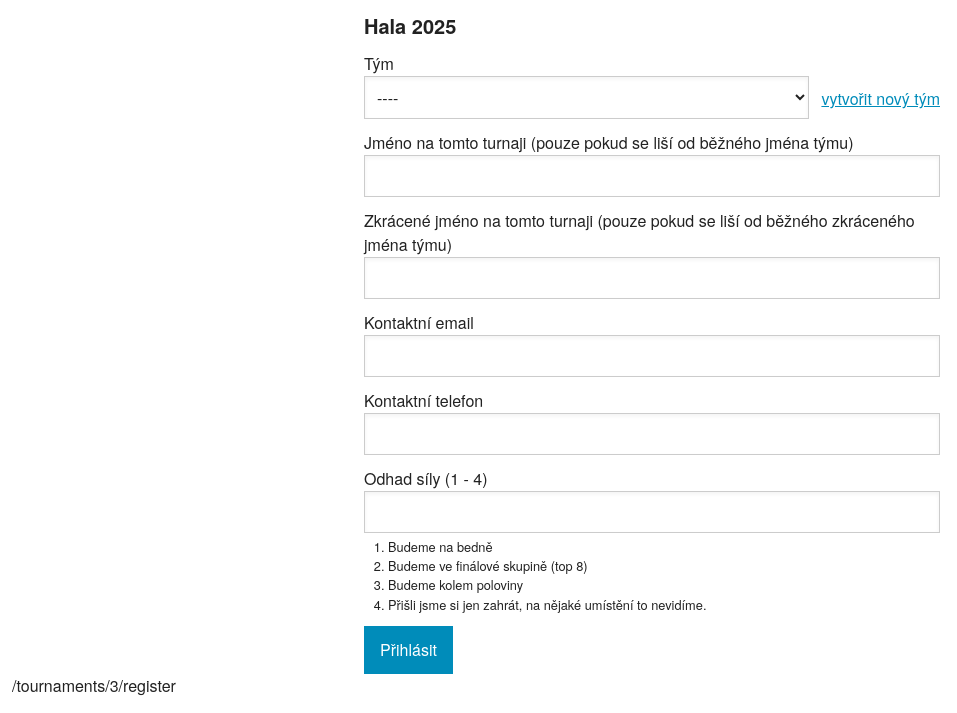
Test: register existing team and go to roster
Step 1. Select "Ufo" in the dropdown labelled "Tým" → (587, 98), box [364,76,809,119]
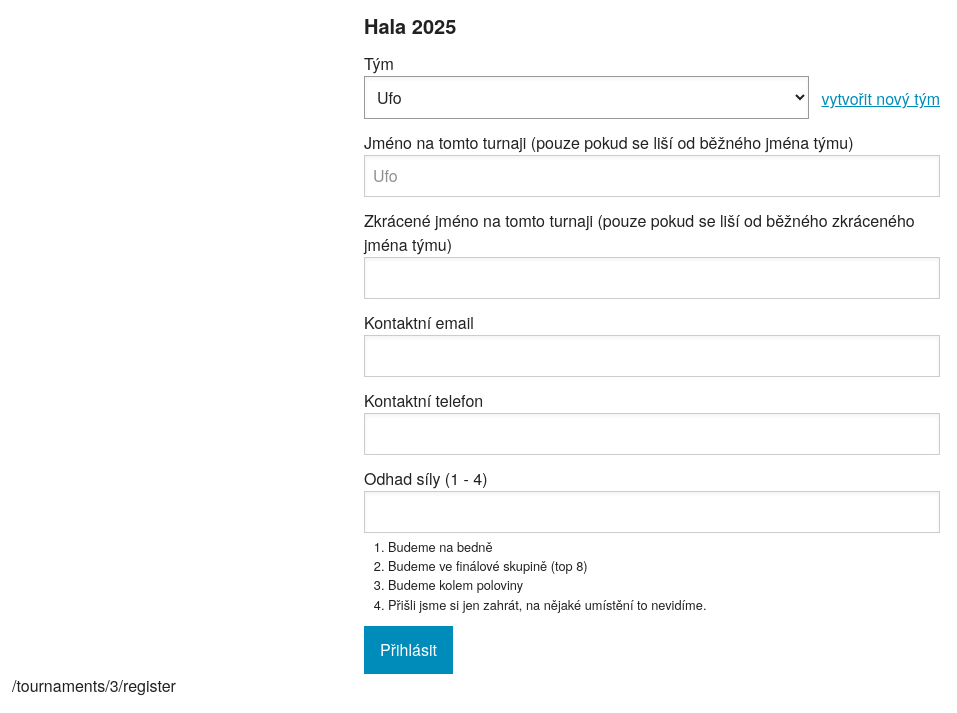
Step 2. Type "a@b.cz" into the field labelled "Kontaktní email" → (652, 356), box [364,335,940,377]
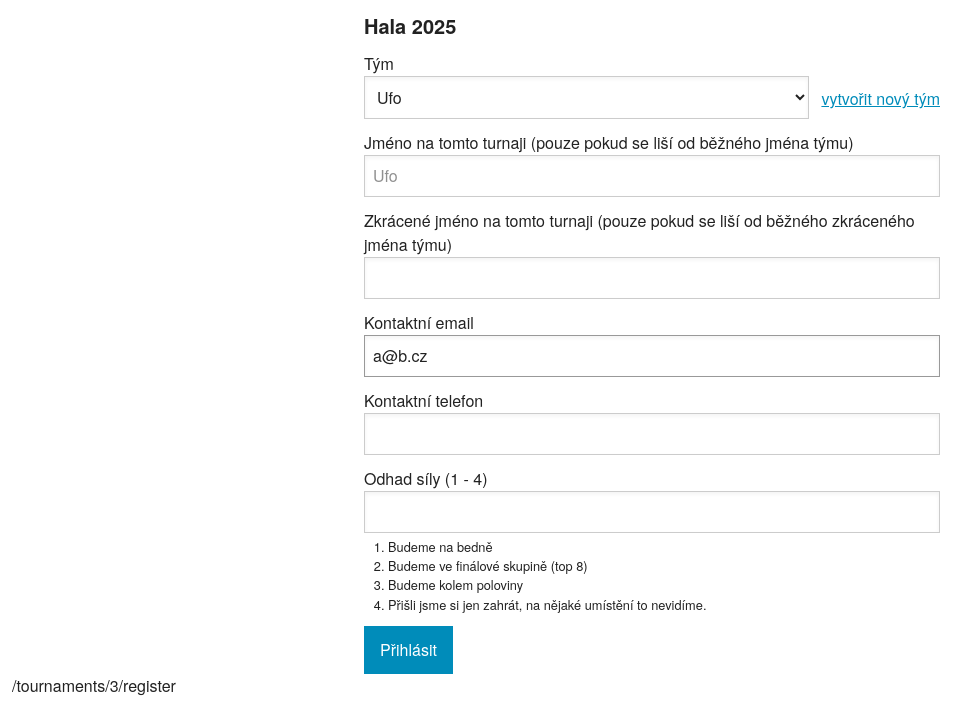
Step 3. Type "123" into the field labelled "Kontaktní telefon" → (652, 434), box [364,413,940,455]
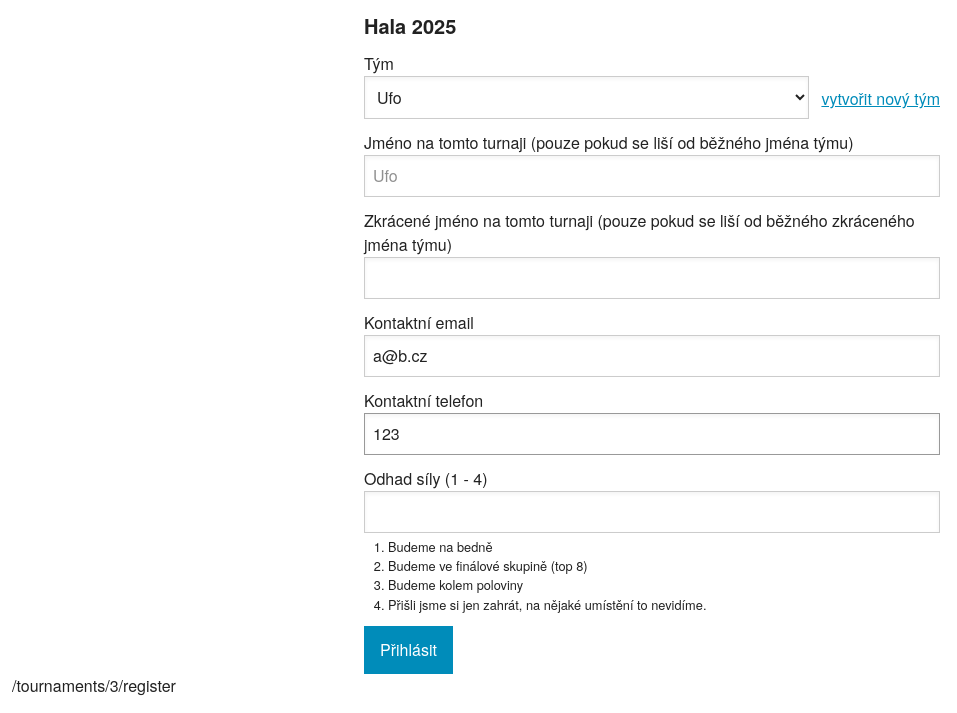
Step 4. Type "2" into the number field labelled "Odhad síly (1 - 4)" → (652, 512), box [364,491,940,533]
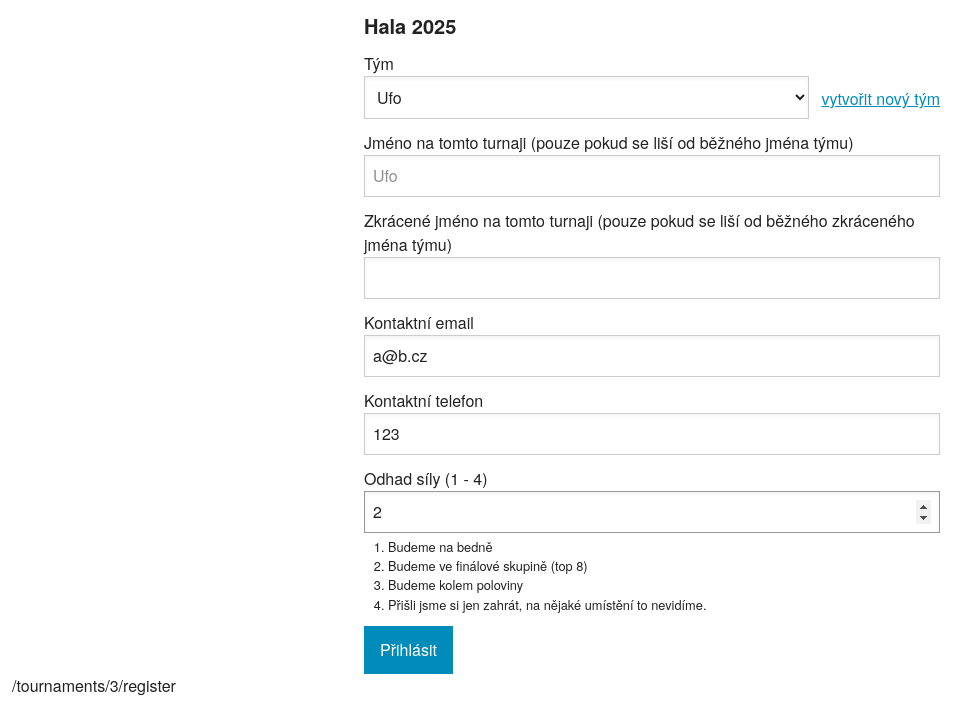
Step 5. Click the button "Přihlásit" → click(408, 650), box [364,626,453,674]
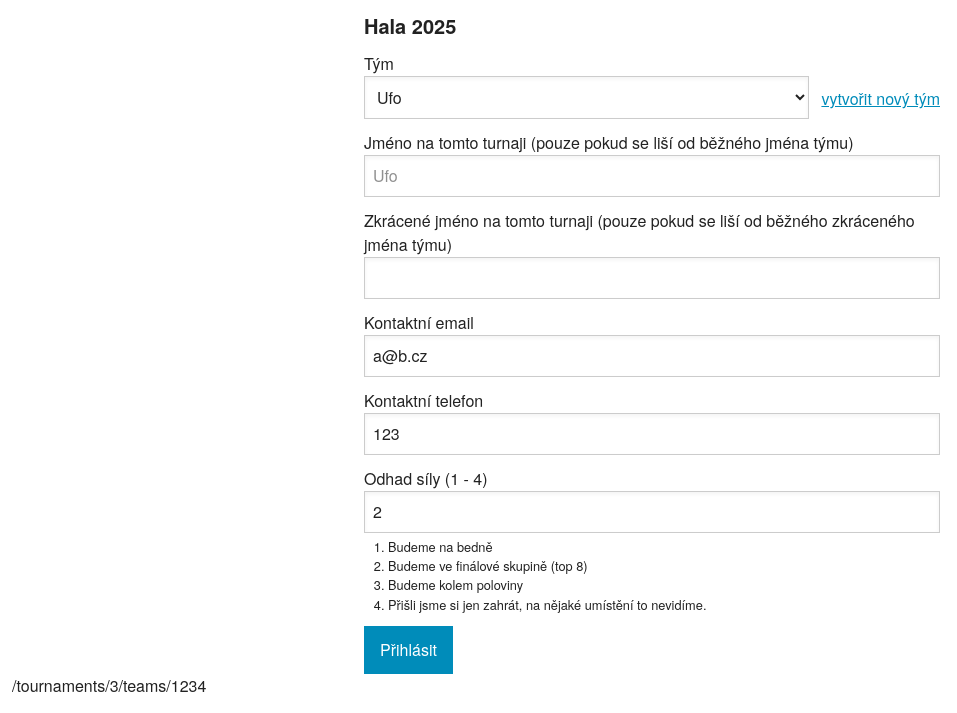
Expected: the text "/tournaments/3/teams/1234" is shown, [12,674,206,697]
